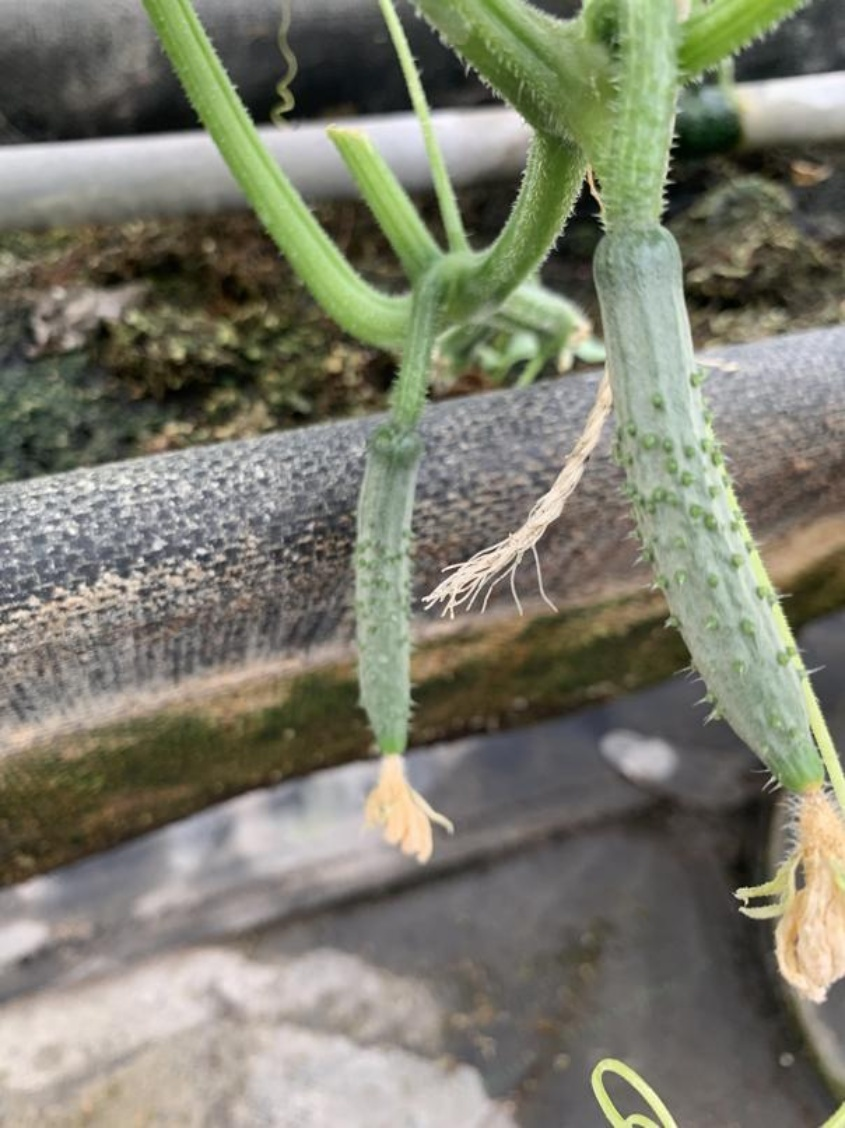growth: (567, 212, 840, 875)
